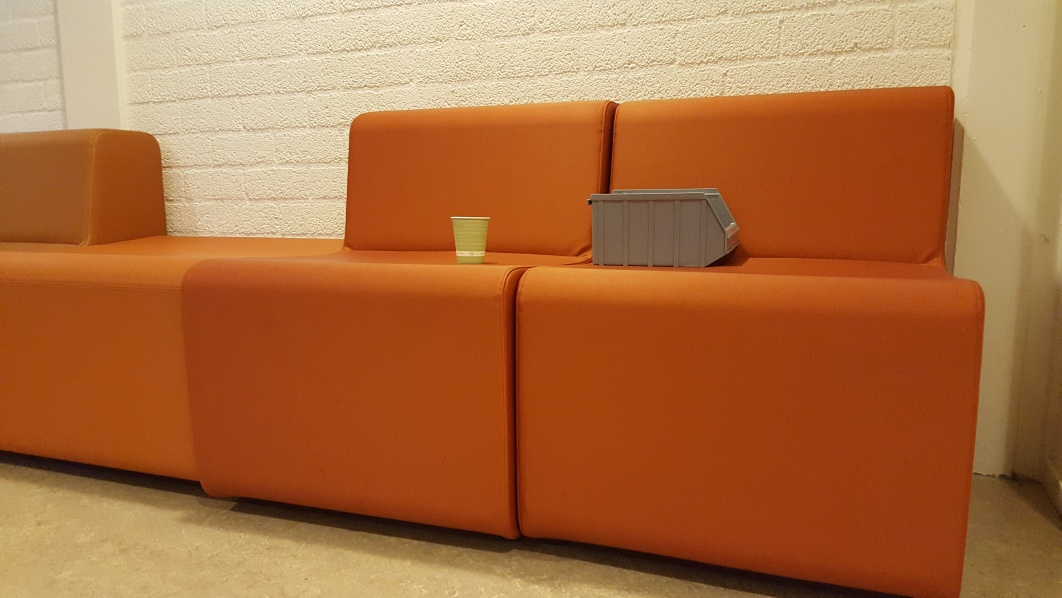cup: (447, 214, 494, 263)
tray: (585, 185, 736, 267)
